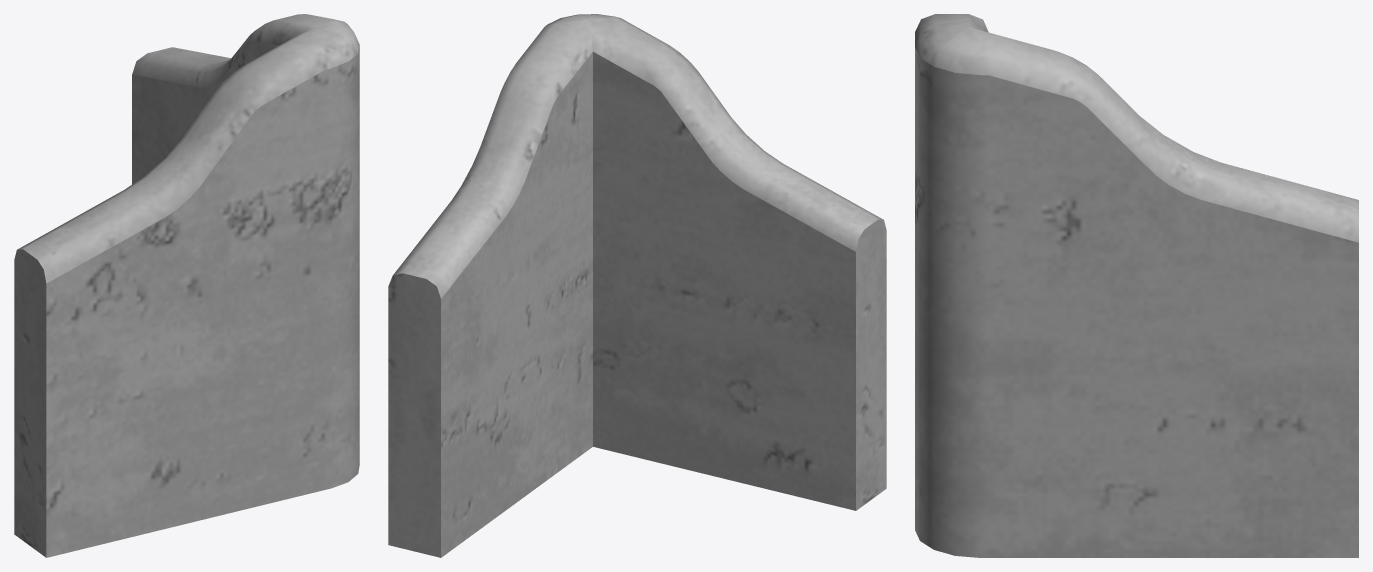
The model's file is AngleFenceUnit_1_5mX1m.fbx.
The picture shows the model from 3 angles, left to right: view 1: azimuth 30°, elevation 25°; view 2: azimuth 150°, elevation 25°; view 3: azimuth 270°, elevation 25°; orthographic projection. The views are drawn at different scales.
Parts seen in each view (by area): view 1: Wall_2m75; view 2: Wall_2m75; view 3: Wall_2m75.
Part boxes in pixels (x1,y1,x2,y2): Wall_2m75: (14,14,359,557); Wall_2m75: (388,14,886,557); Wall_2m75: (915,14,1358,557).
Size of the model in its own units: 120 by 152 by 120.
1 material, 1 textured.
